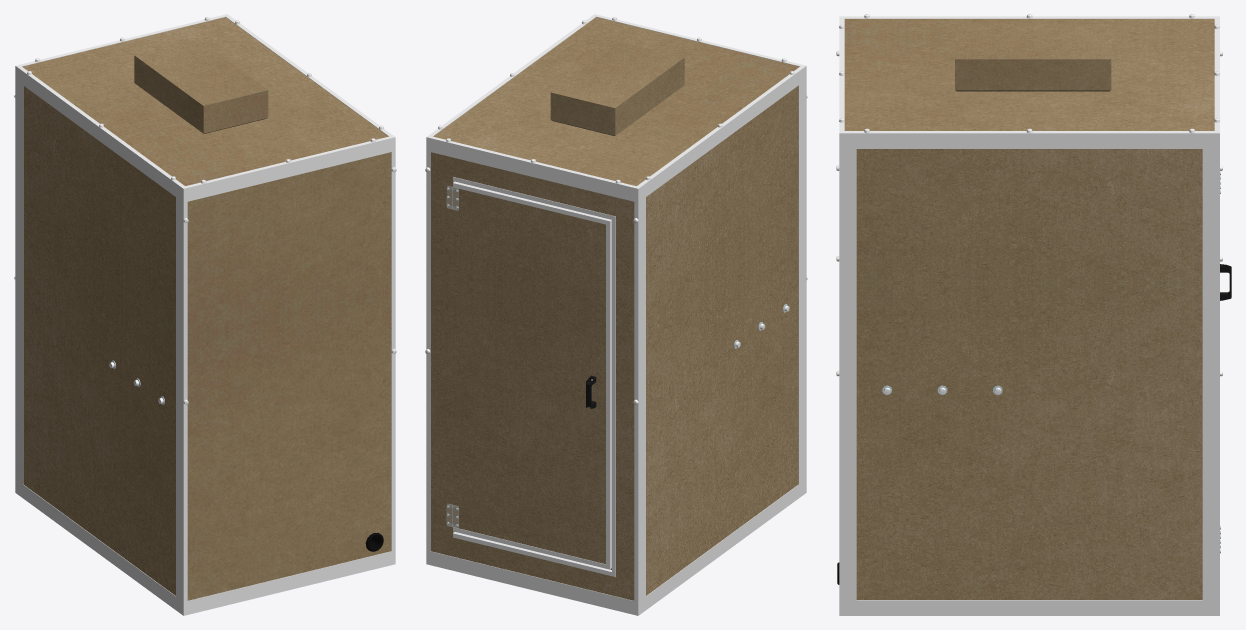
The model's file is danbocchi-v6stl_m2-lowply_joint_mobile.fbx.
3 renders of one model, left to right at view 1: azimuth 30°, elevation 25°; view 2: azimuth 150°, elevation 25°; view 3: azimuth 270°, elevation 25°, orthographic. The views are drawn at different scales.
Visible parts, largest first — view 1: d6 RearPanel, d6 RightPanel, d6 RoofPanel, d6 Silencer, d6 FloorPanel, d6 FrontPanel; view 2: d6 RightPanel, d6 DoorPlate, d6 FrontPanel, d6 RoofPanel, d6 Silencer, d6 FloorPanel, d6 RearPanel; view 3: d6 LeftPanel, d6 RoofPanel, d6 Silencer, d6 RearPanel, d6 FrontPanel, d6 FloorPanel.
Boxes of the visible parts, left/top/right/bottom form: d6 RearPanel: left=178, top=147, right=396, bottom=606; d6 RightPanel: left=20, top=79, right=178, bottom=601; d6 RoofPanel: left=15, top=14, right=395, bottom=198; d6 Silencer: left=134, top=39, right=268, bottom=133; d6 FloorPanel: left=15, top=483, right=395, bottom=615; d6 FrontPanel: left=14, top=75, right=20, bottom=486; d6 RightPanel: left=643, top=79, right=801, bottom=601; d6 DoorPlate: left=453, top=181, right=611, bottom=569; d6 FrontPanel: left=425, top=147, right=643, bottom=606; d6 RoofPanel: left=426, top=14, right=806, bottom=198; d6 Silencer: left=550, top=42, right=684, bottom=135; d6 FloorPanel: left=426, top=483, right=806, bottom=615; d6 RearPanel: left=801, top=75, right=807, bottom=486; d6 LeftPanel: left=851, top=144, right=1207, bottom=604; d6 RoofPanel: left=839, top=14, right=1220, bottom=144; d6 Silencer: left=955, top=23, right=1111, bottom=91; d6 RearPanel: left=836, top=50, right=851, bottom=604; d6 FrontPanel: left=1207, top=50, right=1222, bottom=604; d6 FloorPanel: left=839, top=605, right=1219, bottom=615.
Size of the model in its own units: 80.85 by 161 by 112.
